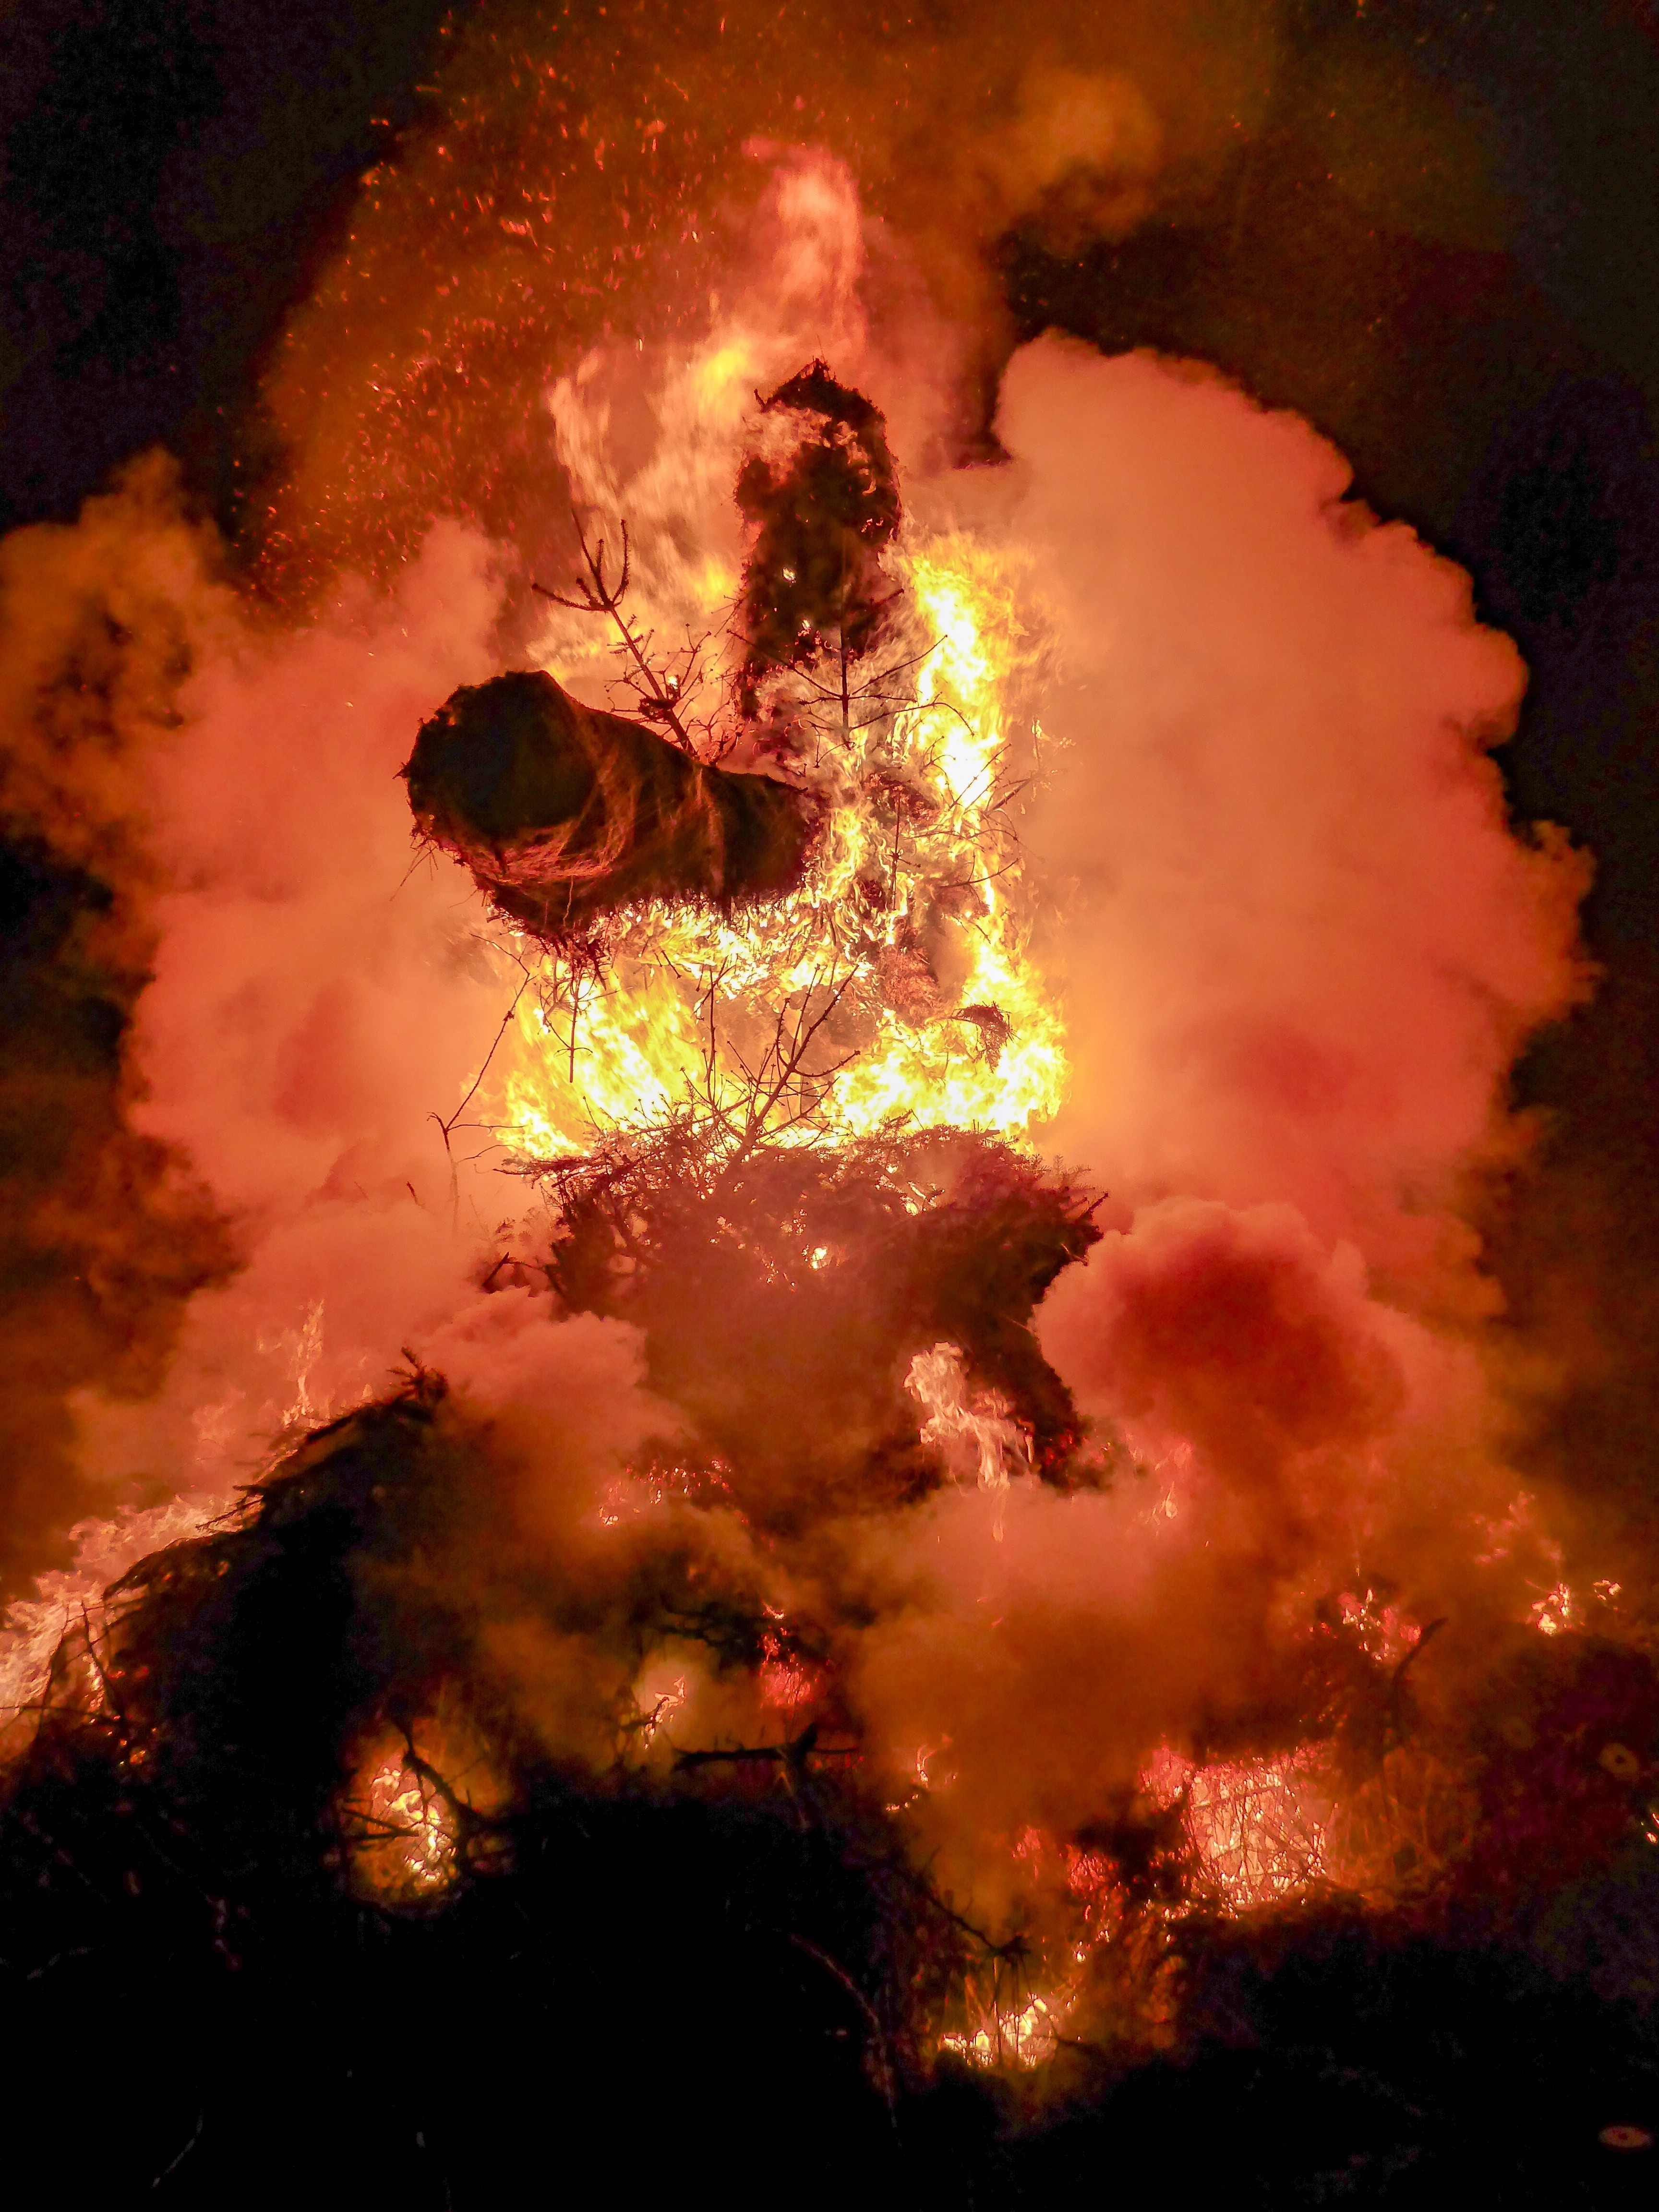fire: (472, 324, 1082, 1198), (343, 1731, 474, 1897)
